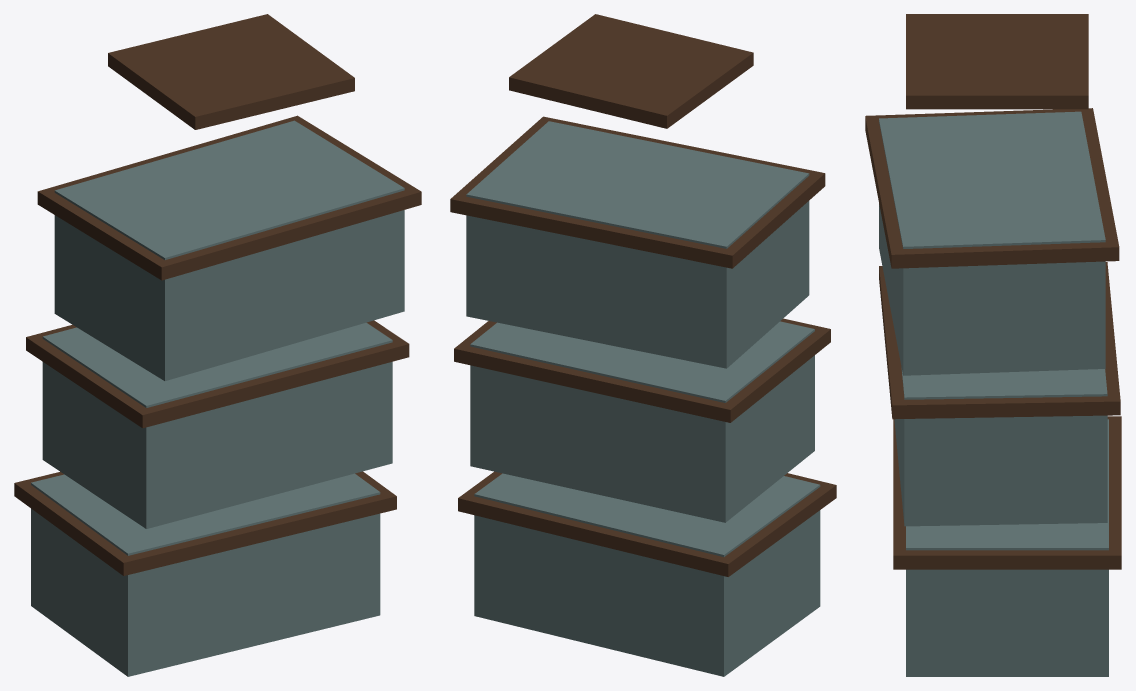
Rendered from PRP_P2_Desk_Stack_A.obj.
The picture shows the model from 3 angles, left to right: view 1: azimuth 30°, elevation 25°; view 2: azimuth 150°, elevation 25°; view 3: azimuth 270°, elevation 25°; orthographic projection. The views are drawn at different scales.
Parts seen in each view (by area): view 1: desk_frame_2, desk_frame_1, desk_frame_0, chair_seat, desk_top_2, desk_top_1, desk_top_0; view 2: desk_frame_2, desk_frame_0, desk_frame_1, chair_seat, desk_top_2, desk_top_0, desk_top_1; view 3: desk_frame_2, desk_frame_1, desk_frame_0, chair_seat, desk_top_2, desk_top_0, desk_top_1.
Boxes of the visible parts, x1=… form: desk_frame_2: x1=54, y1=120, x2=404, y2=380; desk_frame_1: x1=42, y1=322, x2=392, y2=528; desk_frame_0: x1=31, y1=473, x2=380, y2=676; chair_seat: x1=108, y1=14, x2=354, y2=129; desk_top_2: x1=37, y1=115, x2=421, y2=280; desk_top_1: x1=26, y1=320, x2=409, y2=428; desk_top_0: x1=14, y1=471, x2=396, y2=575; desk_frame_2: x1=466, y1=121, x2=809, y2=368; desk_frame_0: x1=474, y1=473, x2=820, y2=676; desk_frame_1: x1=470, y1=321, x2=814, y2=522; chair_seat: x1=509, y1=14, x2=753, y2=128; desk_top_2: x1=450, y1=116, x2=825, y2=268; desk_top_0: x1=458, y1=471, x2=836, y2=576; desk_top_1: x1=454, y1=318, x2=830, y2=422; desk_frame_2: x1=879, y1=111, x2=1105, y2=375; desk_frame_1: x1=894, y1=367, x2=1107, y2=526; desk_frame_0: x1=906, y1=419, x2=1108, y2=676; chair_seat: x1=906, y1=14, x2=1088, y2=109; desk_top_2: x1=865, y1=108, x2=1119, y2=268; desk_top_0: x1=893, y1=416, x2=1121, y2=569; desk_top_1: x1=879, y1=262, x2=1120, y2=419.
Size of the model in its own units: 0.7069 by 1.24 by 0.5053.
